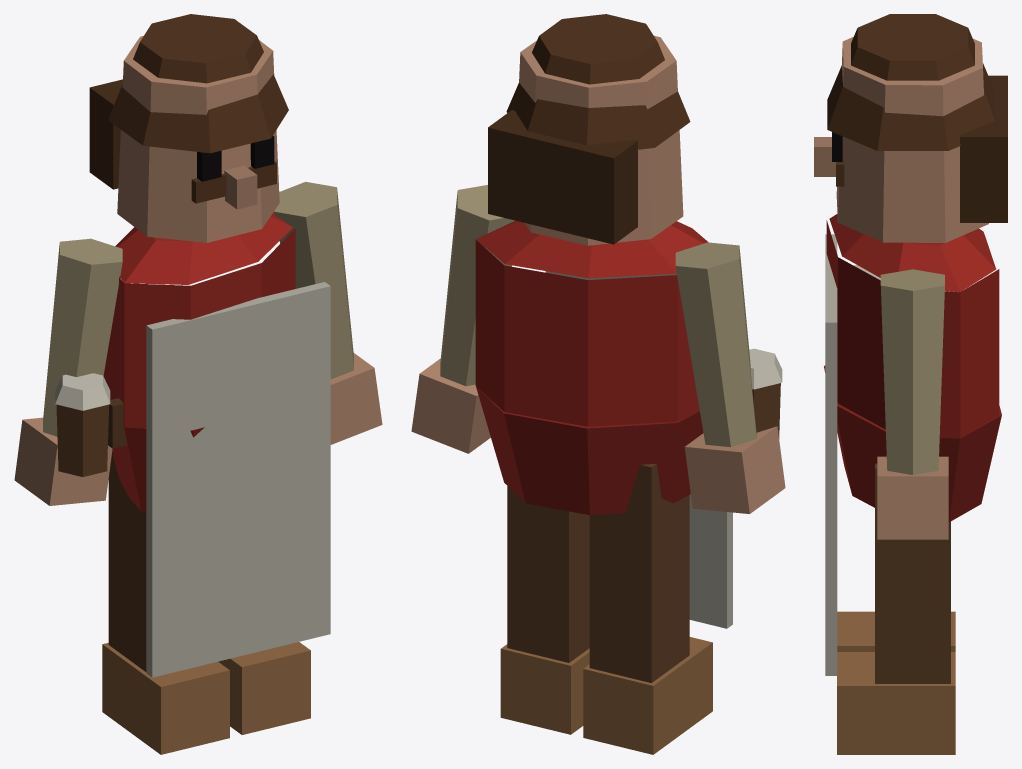
File: barkeep.glb
3 views of the same model, side by side, from view 1: azimuth 30°, elevation 25°; view 2: azimuth 150°, elevation 25°; view 3: azimuth 270°, elevation 25° (orthographic).
Parts seen in each view (by area): view 1: barkeep_torso, barkeep_head, barkeep_leg_r, barkeep_arm_r, barkeep_arm_l, barkeep_leg_l, barkeep_mug; view 2: barkeep_torso, barkeep_head, barkeep_leg_r, barkeep_leg_l, barkeep_arm_r, barkeep_arm_l, barkeep_mug; view 3: barkeep_head, barkeep_torso, barkeep_leg_l, barkeep_arm_l, barkeep_leg_r.
Boxes of the visible parts, x1,y1,x2,y2 form: barkeep_torso: (103,211,330,677); barkeep_head: (89,14,288,242); barkeep_leg_r: (102,452,229,754); barkeep_arm_r: (14,238,122,505); barkeep_arm_l: (274,181,382,444); barkeep_leg_l: (218,642,310,734); barkeep_mug: (55,373,126,476); barkeep_torso: (475,220,732,628); barkeep_head: (488,14,690,245); barkeep_leg_r: (583,463,712,754); barkeep_leg_l: (500,486,589,734); barkeep_arm_r: (675,242,785,513); barkeep_arm_l: (411,185,514,453); barkeep_mug: (749,348,782,438); barkeep_head: (814,14,1007,242); barkeep_torso: (824,214,1001,675); barkeep_leg_l: (837,463,955,754); barkeep_arm_l: (877,269,948,539); barkeep_leg_r: (837,611,955,651).
Size of the model in its own units: 0.821 by 1.58 by 0.408.
